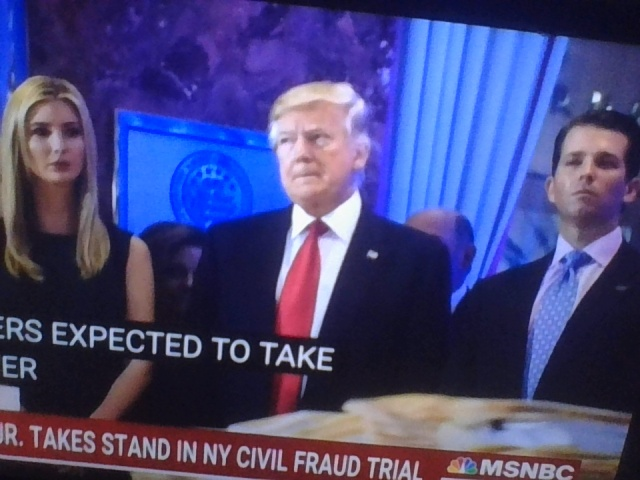fake: (255, 30, 389, 220)
